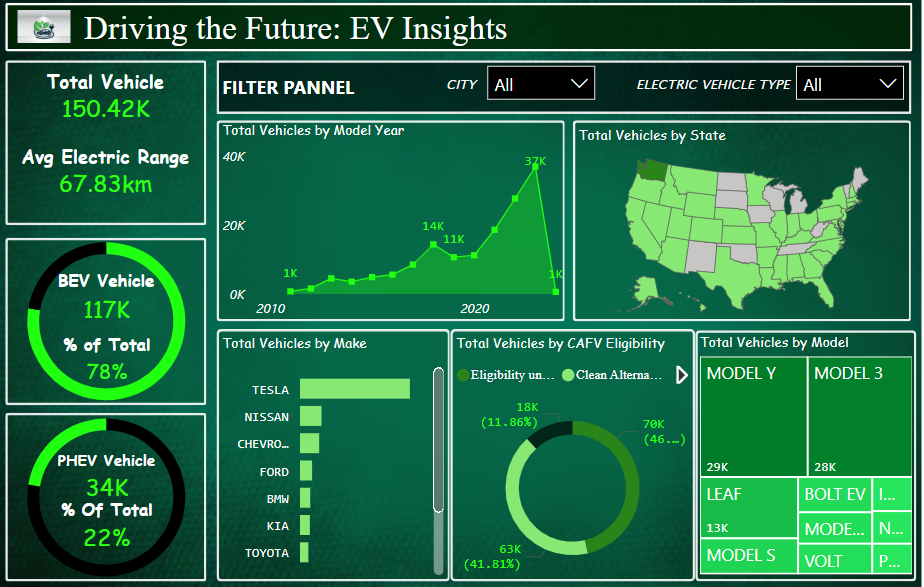

The dashboard page shown, as its layout file describes it:
{"tool":"powerbi","page":{"name":"EV INSIGHTS DASHBOARD","canvas":[2000,740],"ordinal":0},"visuals":[{"type":"shape","box":[636.7,135,725.8,39.2],"z":0},{"type":"textbox","box":[636.7,135,430,51.7],"z":1000},{"type":"shape","box":[636.7,180.8,161.7,132.5],"z":2000},{"type":"shape","box":[636.7,322.5,161.7,134.2],"z":3000},{"type":"shape","box":[636.7,462.5,161.7,135.8],"z":4000},{"type":"card","title":"Total Vehicle","fields":{"Values":["Electric_Vehicle_Population_Data.Total Vehicles"]},"box":[662.7,187.3,109.1,48.2],"z":5000},{"type":"card","title":"Avg Electric Range","fields":{"Values":["Electric_Vehicle_Population_Data.Avg Range"]},"box":[643.6,247.3,147.3,48.2],"z":6000},{"type":"donutChart","fields":{"Category":["Electric_Vehicle_Population_Data.Electric Vehicle Type"],"Y":["Electric_Vehicle_Population_Data.Total Vehicles"]},"box":[576.4,306.4,283.6,167.3],"z":7000},{"type":"card","title":"BEV Vehicle","fields":{"Values":["Electric_Vehicle_Population_Data.BEV Vehicles"]},"box":[668.2,348.2,100,50.9],"z":8000},{"type":"card","title":"% of Total","fields":{"Values":["Electric_Vehicle_Population_Data.% OF BEV"]},"box":[663.6,399.1,109.1,48.2],"z":9000},{"type":"donutChart","fields":{"Category":["Electric_Vehicle_Population_Data.Electric Vehicle Type"],"Y":["Electric_Vehicle_Population_Data.Total Vehicles"]},"box":[576.4,447.3,283.6,167.3],"z":10000},{"type":"card","title":"PHEV Vehicle","fields":{"Values":["Electric_Vehicle_Population_Data.PHEV Vehicles"]},"box":[644.5,491.8,147.3,48.2],"z":11000},{"type":"card","title":"% Of Total","fields":{"Values":["Electric_Vehicle_Population_Data.% of PHEV"]},"box":[663.6,530.9,109.1,48.2],"z":12000},{"type":"shape","box":[806.4,180.9,555.5,42.7],"z":13000},{"type":"shape","box":[806.4,229.1,278.2,160.9],"z":14000},{"type":"shape","box":[1090.9,229.1,270.9,160.9],"z":15000},{"type":"shape","box":[806.4,396.4,186.4,201.8],"z":16000},{"type":"shape","box":[992.7,396.4,196.4,201.8],"z":17000},{"type":"shape","box":[1189.1,397.3,177.3,200.9],"z":18000},{"type":"areaChart","fields":{"Category":["Electric_Vehicle_Population_Data.Model Year"],"Y":["Electric_Vehicle_Population_Data.Total Vehicles"]},"box":[806.4,229.1,304.5,168.2],"z":19000},{"type":"shapeMap","fields":{"Category":["Electric_Vehicle_Population_Data.State"],"Value":["Electric_Vehicle_Population_Data.Total Vehicles"]},"box":[1090.9,232.7,270.9,160.9],"z":20000},{"type":"barChart","fields":{"Category":["Electric_Vehicle_Population_Data.Make"],"Y":["Electric_Vehicle_Population_Data.Total Vehicles"]},"box":[806.4,399.1,186.4,199.1],"z":21000},{"type":"donutChart","title":"Total Vehicles by CAFV Eligibility","fields":{"Category":["Electric_Vehicle_Population_Data.Clean Alternative Fuel Vehicle (CAFV) Eligibility"],"Y":["Electric_Vehicle_Population_Data.Total Vehicles"]},"box":[992.7,399.1,196.4,206.4],"z":22000},{"type":"treemap","fields":{"Group":["Electric_Vehicle_Population_Data.Model"],"Values":["Electric_Vehicle_Population_Data.Total Vehicles"]},"box":[1188.2,398.2,180,199.1],"z":23000},{"type":"textbox","box":[806.4,187.3,130,37.3],"z":24000},{"type":"slicer","fields":{"Values":["Electric_Vehicle_Population_Data.City"]},"box":[1012.7,175.5,106.4,49.1],"z":25000},{"type":"textbox","box":[985.5,184.5,54.5,32.7],"z":26000},{"type":"slicer","fields":{"Values":["Electric_Vehicle_Population_Data.Electric Vehicle Type"]},"box":[1260,175.5,106.4,49.1],"z":27000},{"type":"textbox","box":[1137.3,184.5,156.4,30.9],"z":28000},{"type":"image","box":[570,136.4,196.4,35.5],"z":29000}]}

Visuals, with their boxes on the page's 2000x740 design canvas (x1, y1, x2, y2). These are canvas units, not pixel positions in the 924x587 screenshot, which may show the page scaled, cropped or inside an application window:
shape: l=637, t=135, r=1362, b=174
textbox: l=637, t=135, r=1067, b=187
shape: l=637, t=181, r=798, b=313
shape: l=637, t=322, r=798, b=457
shape: l=637, t=462, r=798, b=598
"Total Vehicle" card: l=663, t=187, r=772, b=236
"Avg Electric Range" card: l=644, t=247, r=791, b=296
donutChart - Electric_Vehicle_Population_Data.Electric Vehicle Type x Electric_Vehicle_Population_Data.Total Vehicles: l=576, t=306, r=860, b=474
"BEV Vehicle" card: l=668, t=348, r=768, b=399
"% of Total" card: l=664, t=399, r=773, b=447
donutChart - Electric_Vehicle_Population_Data.Electric Vehicle Type x Electric_Vehicle_Population_Data.Total Vehicles: l=576, t=447, r=860, b=615
"PHEV Vehicle" card: l=644, t=492, r=792, b=540
"% Of Total" card: l=664, t=531, r=773, b=579
shape: l=806, t=181, r=1362, b=224
shape: l=806, t=229, r=1085, b=390
shape: l=1091, t=229, r=1362, b=390
shape: l=806, t=396, r=993, b=598
shape: l=993, t=396, r=1189, b=598
shape: l=1189, t=397, r=1366, b=598
areaChart - Electric_Vehicle_Population_Data.Model Year x Electric_Vehicle_Population_Data.Total Vehicles: l=806, t=229, r=1111, b=397
shapeMap - Electric_Vehicle_Population_Data.State x Electric_Vehicle_Population_Data.Total Vehicles: l=1091, t=233, r=1362, b=394
barChart - Electric_Vehicle_Population_Data.Make x Electric_Vehicle_Population_Data.Total Vehicles: l=806, t=399, r=993, b=598
"Total Vehicles by CAFV Eligibility" donutChart: l=993, t=399, r=1189, b=606
treemap - Electric_Vehicle_Population_Data.Model x Electric_Vehicle_Population_Data.Total Vehicles: l=1188, t=398, r=1368, b=597
textbox: l=806, t=187, r=936, b=225
slicer - Electric_Vehicle_Population_Data.City: l=1013, t=176, r=1119, b=225
textbox: l=986, t=184, r=1040, b=217
slicer - Electric_Vehicle_Population_Data.Electric Vehicle Type: l=1260, t=176, r=1366, b=225
textbox: l=1137, t=184, r=1294, b=215
image: l=570, t=136, r=766, b=172
